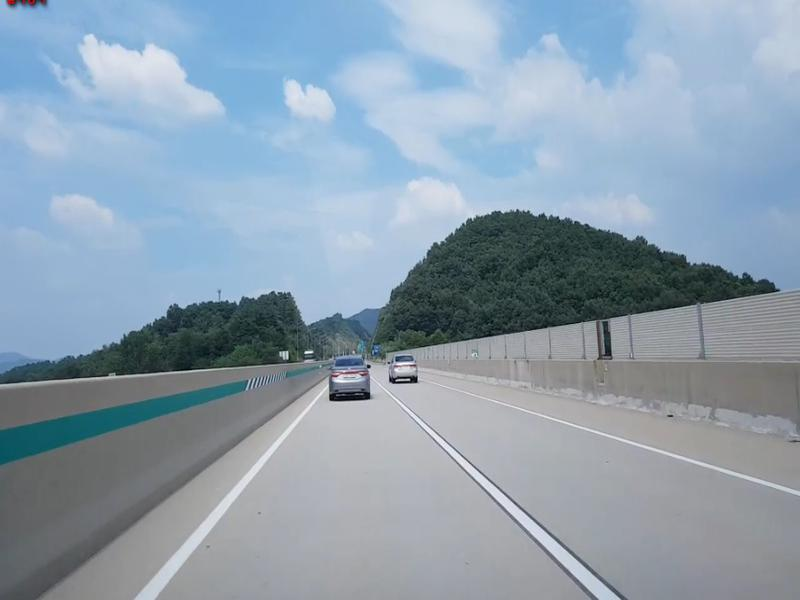car: (327, 357, 374, 398), (389, 355, 420, 381)
lane: (402, 403, 594, 582), (159, 408, 311, 589)
